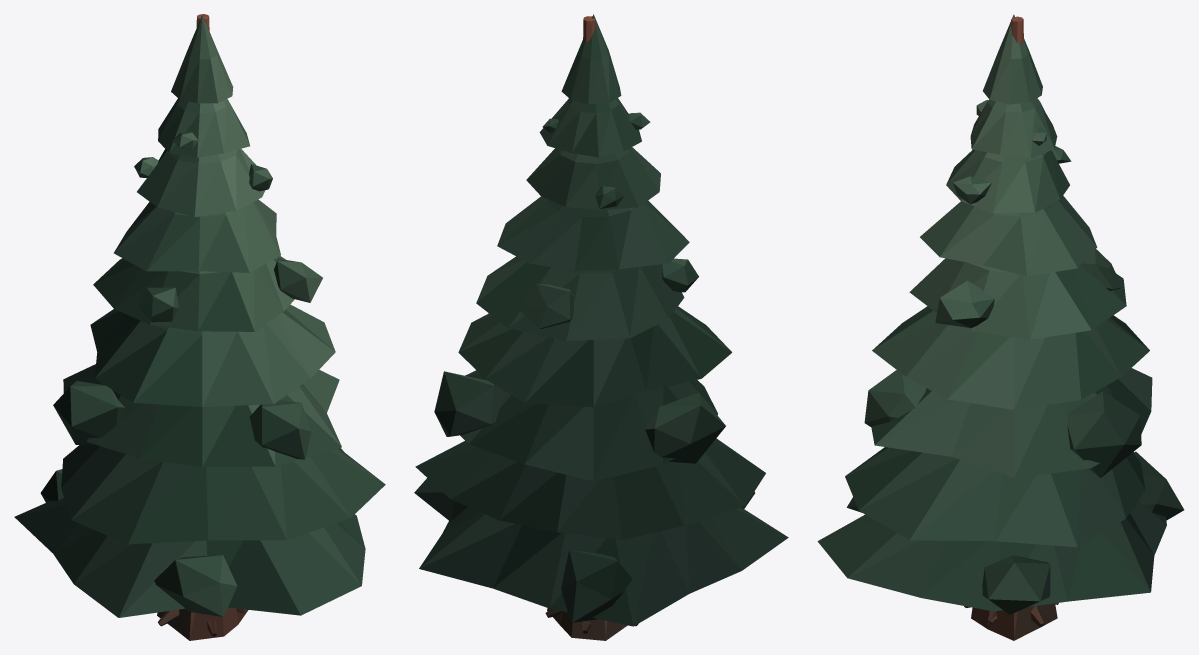
Rendered from conifer-spire.glb.
The picture shows the model from 3 angles, left to right: view 1: azimuth 30°, elevation 25°; view 2: azimuth 150°, elevation 25°; view 3: azimuth 270°, elevation 25°; orthographic projection.
Parts seen in each view (by area): view 1: canopy, trunk; view 2: canopy, trunk; view 3: canopy, trunk.
Part boxes in pixels (<box>): canopy: <box>14,15,385,617</box>; trunk: <box>157,14,248,640</box>; canopy: <box>414,14,788,626</box>; trunk: <box>545,16,638,640</box>; canopy: <box>817,14,1184,614</box>; trunk: <box>964,16,1058,640</box>.
Bounding box in the file's own units: 3.95 × 7.45 × 4.1.
